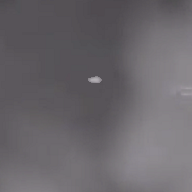Target: (89, 76, 103, 83)
